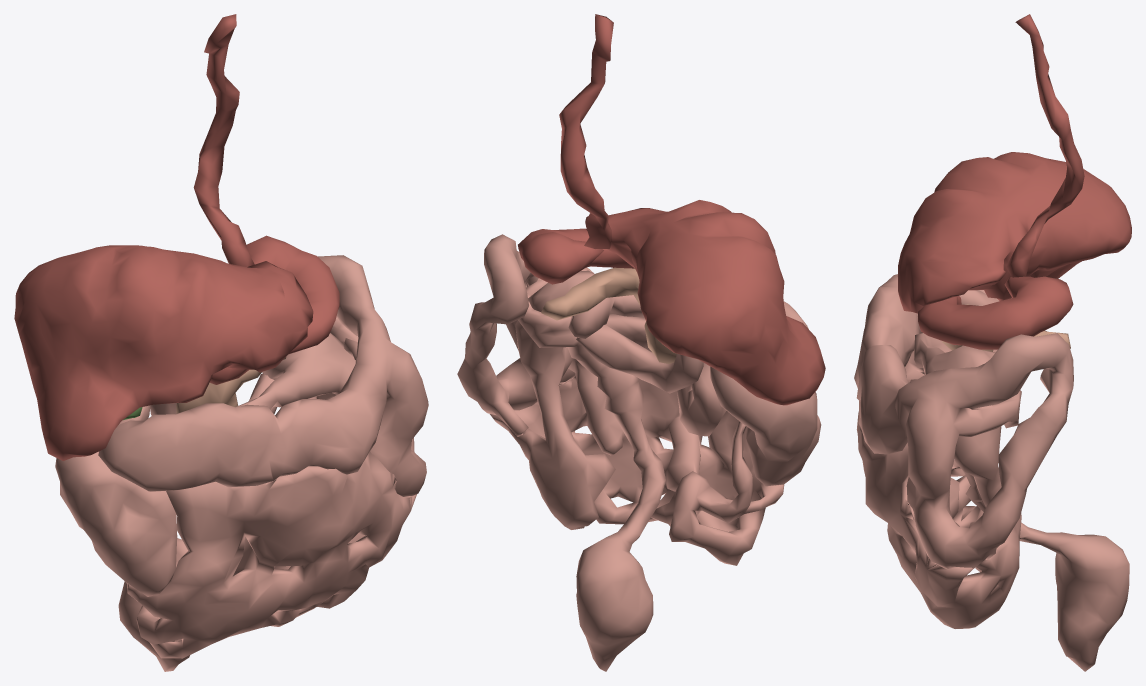
The model's file is tsd_s0196_older_adult_female.digestive.LOD4.glb.
The picture shows the model from 3 angles, left to right: view 1: azimuth 30°, elevation 25°; view 2: azimuth 150°, elevation 25°; view 3: azimuth 270°, elevation 25°; orthographic projection. The views are drawn at different scales.
Visible parts, largest first — view 1: TSD_S0196.OLDER_ADULT.FEMALE.DIGESTIVE.COLON, TSD_S0196.OLDER_ADULT.FEMALE.DIGESTIVE.LIVER, TSD_S0196.OLDER_ADULT.FEMALE.DIGESTIVE.SMALL_BOWEL_JEJUNUM_A, TSD_S0196.OLDER_ADULT.FEMALE.DIGESTIVE.ESOPHAGUS, TSD_S0196.OLDER_ADULT.FEMALE.DIGESTIVE.STOMACH, TSD_S0196.OLDER_ADULT.FEMALE.DIGESTIVE.PANCREAS, TSD_S0196.OLDER_ADULT.FEMALE.DIGESTIVE.DUODENUM; view 2: TSD_S0196.OLDER_ADULT.FEMALE.DIGESTIVE.SMALL_BOWEL_JEJUNUM_A, TSD_S0196.OLDER_ADULT.FEMALE.DIGESTIVE.COLON, TSD_S0196.OLDER_ADULT.FEMALE.DIGESTIVE.LIVER, TSD_S0196.OLDER_ADULT.FEMALE.DIGESTIVE.ESOPHAGUS, TSD_S0196.OLDER_ADULT.FEMALE.DIGESTIVE.DUODENUM, TSD_S0196.OLDER_ADULT.FEMALE.DIGESTIVE.STOMACH, TSD_S0196.OLDER_ADULT.FEMALE.DIGESTIVE.PANCREAS; view 3: TSD_S0196.OLDER_ADULT.FEMALE.DIGESTIVE.COLON, TSD_S0196.OLDER_ADULT.FEMALE.DIGESTIVE.LIVER, TSD_S0196.OLDER_ADULT.FEMALE.DIGESTIVE.SMALL_BOWEL_JEJUNUM_A, TSD_S0196.OLDER_ADULT.FEMALE.DIGESTIVE.STOMACH, TSD_S0196.OLDER_ADULT.FEMALE.DIGESTIVE.ESOPHAGUS, TSD_S0196.OLDER_ADULT.FEMALE.DIGESTIVE.DUODENUM.
Part boxes in pixels (x1,y1,x2,y2): TSD_S0196.OLDER_ADULT.FEMALE.DIGESTIVE.COLON: (55, 255, 428, 671); TSD_S0196.OLDER_ADULT.FEMALE.DIGESTIVE.LIVER: (14, 245, 313, 460); TSD_S0196.OLDER_ADULT.FEMALE.DIGESTIVE.SMALL_BOWEL_JEJUNUM_A: (126, 333, 416, 658); TSD_S0196.OLDER_ADULT.FEMALE.DIGESTIVE.ESOPHAGUS: (193, 14, 254, 266); TSD_S0196.OLDER_ADULT.FEMALE.DIGESTIVE.STOMACH: (209, 235, 339, 384); TSD_S0196.OLDER_ADULT.FEMALE.DIGESTIVE.PANCREAS: (176, 357, 286, 413); TSD_S0196.OLDER_ADULT.FEMALE.DIGESTIVE.DUODENUM: (150, 373, 277, 415); TSD_S0196.OLDER_ADULT.FEMALE.DIGESTIVE.SMALL_BOWEL_JEJUNUM_A: (490, 270, 784, 565); TSD_S0196.OLDER_ADULT.FEMALE.DIGESTIVE.COLON: (457, 234, 821, 671); TSD_S0196.OLDER_ADULT.FEMALE.DIGESTIVE.LIVER: (586, 200, 825, 405); TSD_S0196.OLDER_ADULT.FEMALE.DIGESTIVE.ESOPHAGUS: (559, 14, 613, 248); TSD_S0196.OLDER_ADULT.FEMALE.DIGESTIVE.DUODENUM: (576, 325, 703, 393); TSD_S0196.OLDER_ADULT.FEMALE.DIGESTIVE.STOMACH: (518, 228, 634, 284); TSD_S0196.OLDER_ADULT.FEMALE.DIGESTIVE.PANCREAS: (541, 267, 676, 363); TSD_S0196.OLDER_ADULT.FEMALE.DIGESTIVE.COLON: (854, 274, 1129, 671); TSD_S0196.OLDER_ADULT.FEMALE.DIGESTIVE.LIVER: (898, 152, 1131, 313); TSD_S0196.OLDER_ADULT.FEMALE.DIGESTIVE.SMALL_BOWEL_JEJUNUM_A: (856, 333, 1021, 628); TSD_S0196.OLDER_ADULT.FEMALE.DIGESTIVE.STOMACH: (918, 276, 1073, 349); TSD_S0196.OLDER_ADULT.FEMALE.DIGESTIVE.ESOPHAGUS: (1006, 14, 1084, 277); TSD_S0196.OLDER_ADULT.FEMALE.DIGESTIVE.DUODENUM: (959, 290, 998, 352).
Bounding box in the file's own units: 0.2871 × 0.5016 × 0.1886.
